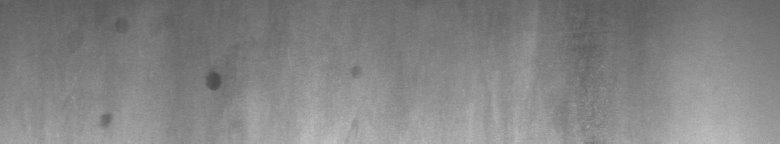fi: (203, 64, 224, 96)
